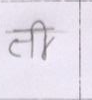i_matra: (34, 19, 51, 59)
